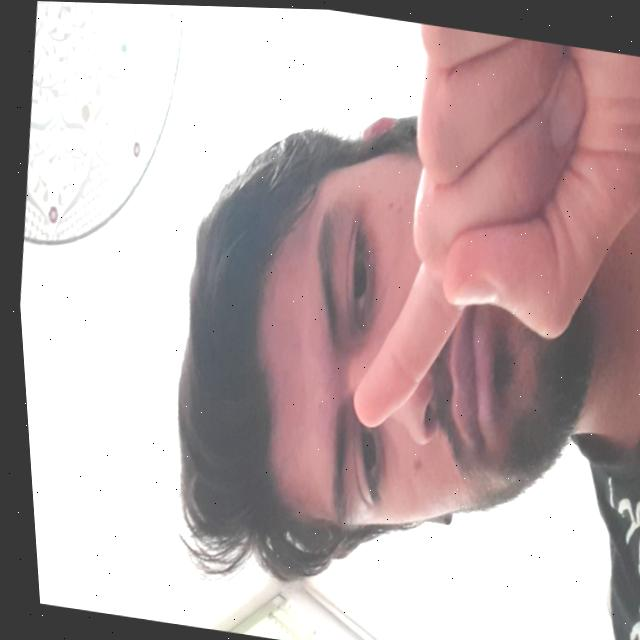Head: (132, 89, 632, 627)
One: (320, 11, 640, 476)
